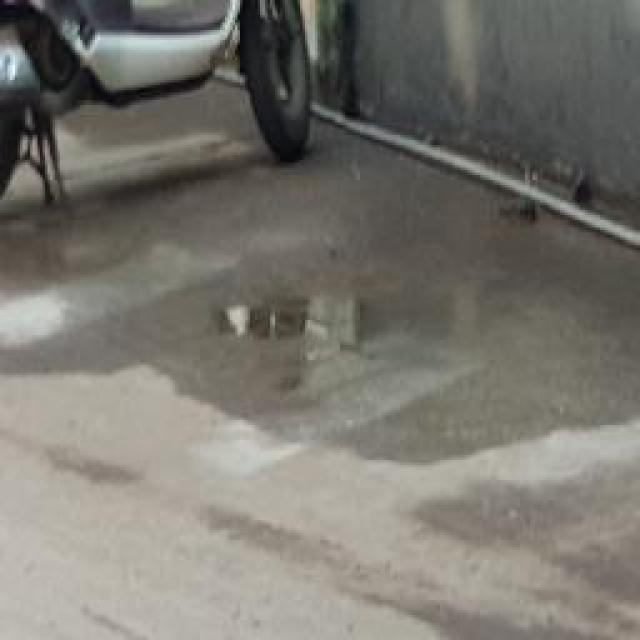stagnation: (205, 276, 404, 403)
